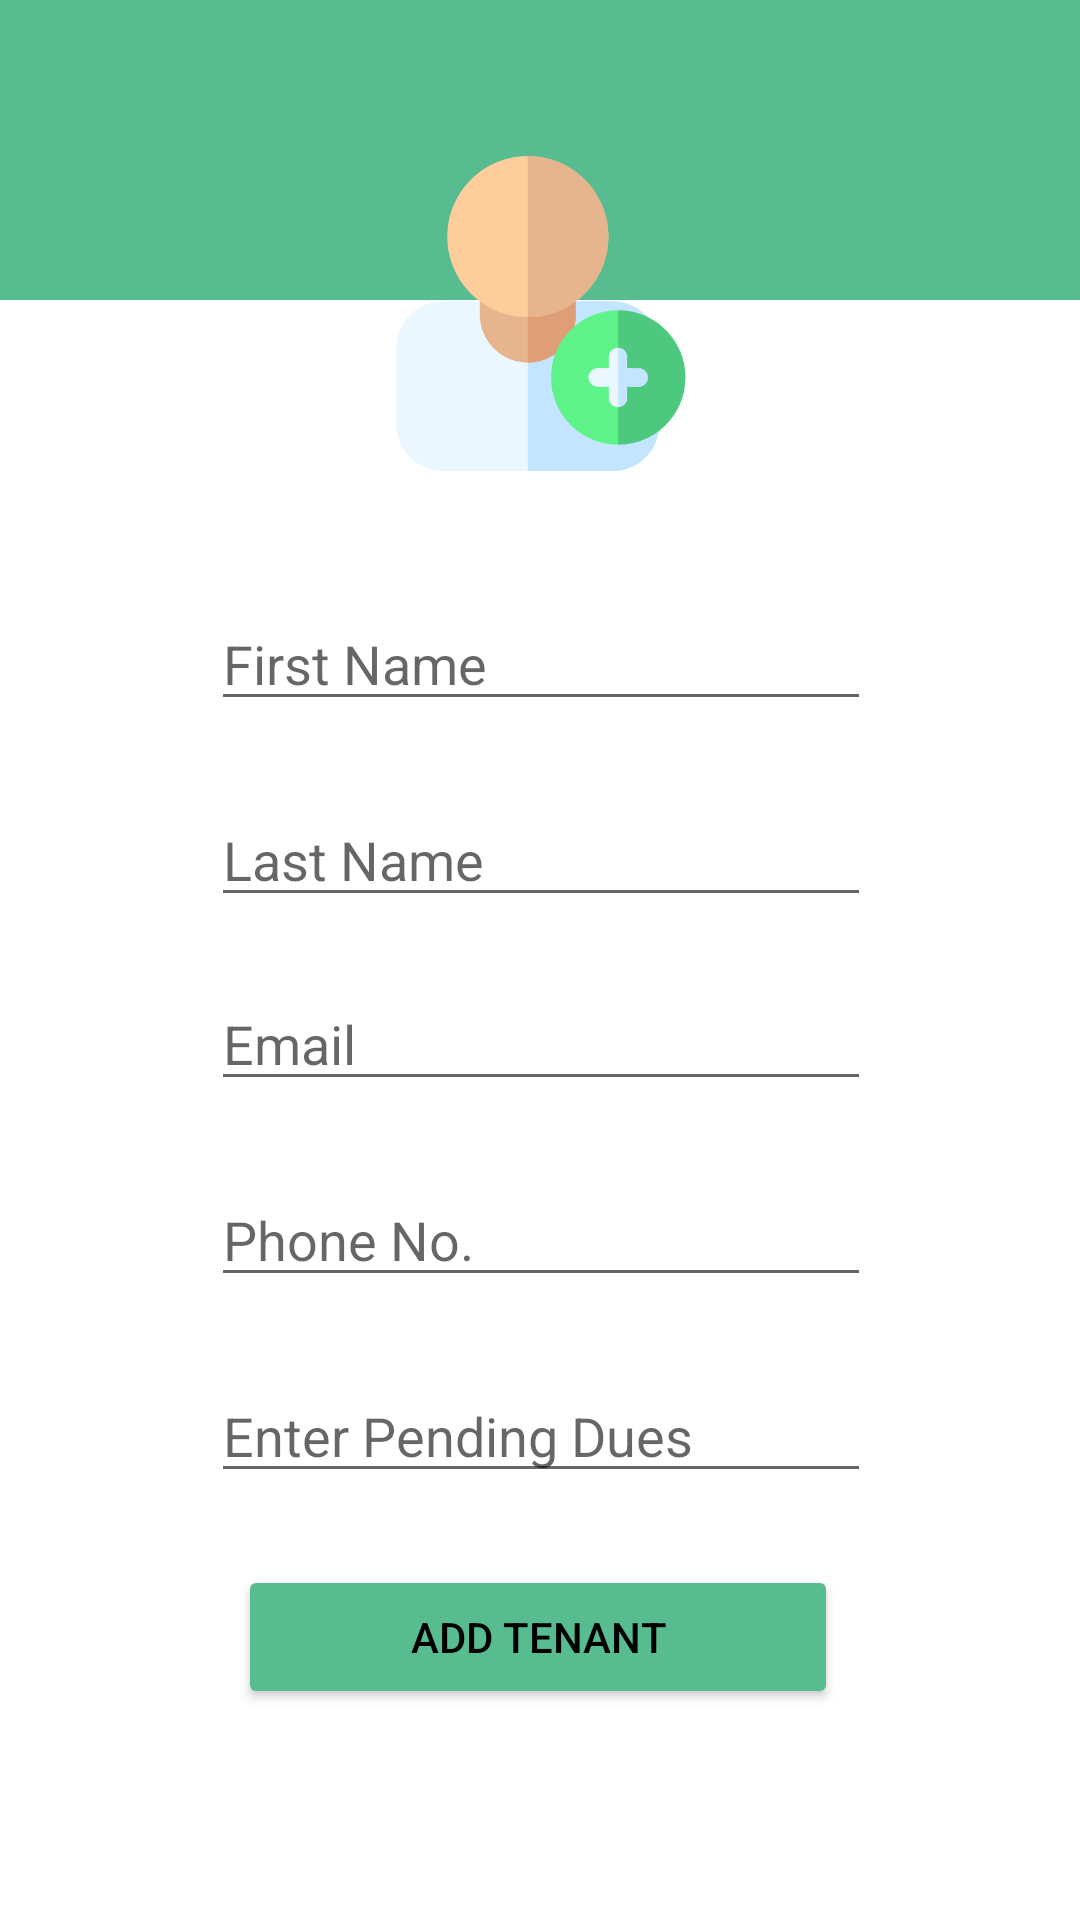

Where to tap for icons on this 1080 × 1920 app screen, as point (x, y):
add user: point (540, 313)
